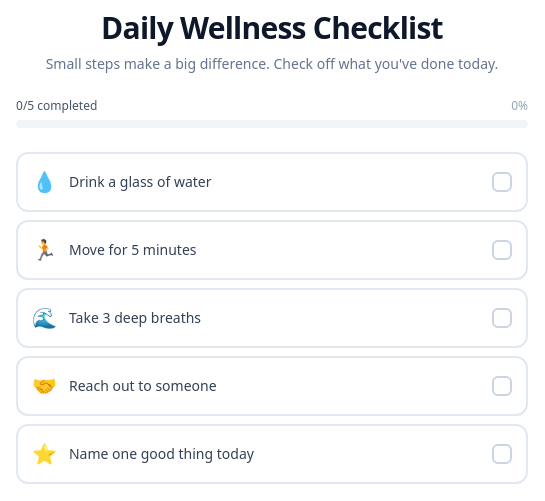
Test case: WellnessChecklist › updates progress when an item is checked
The width and height of the screenshot is (545, 501).
Click the checkbox labelled "💧 Drink a glass of water" at (140,182), box [16,152,528,212]
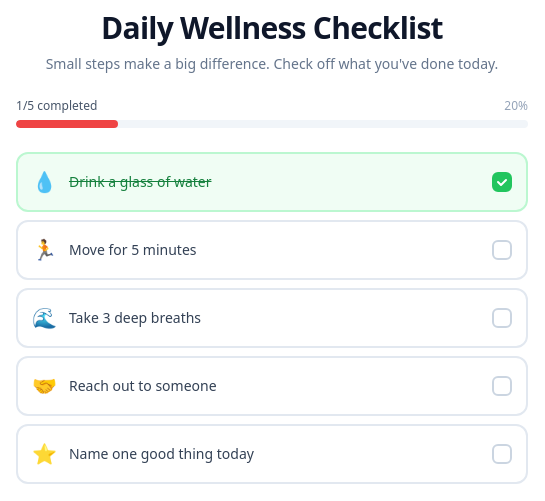
Check: the text "1/5 completed" is shown, box [16,98,97,114]
